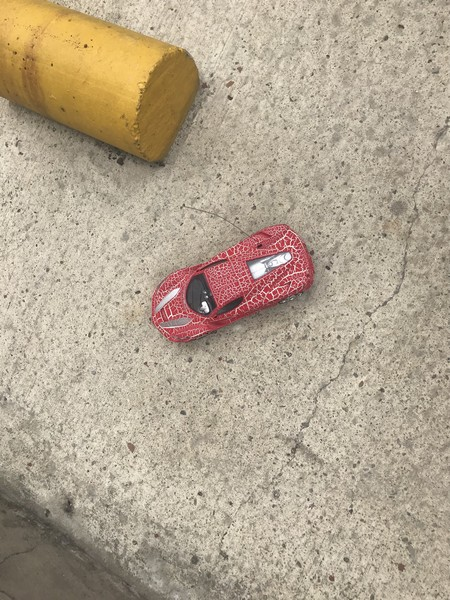RC: (148, 223, 316, 346)
